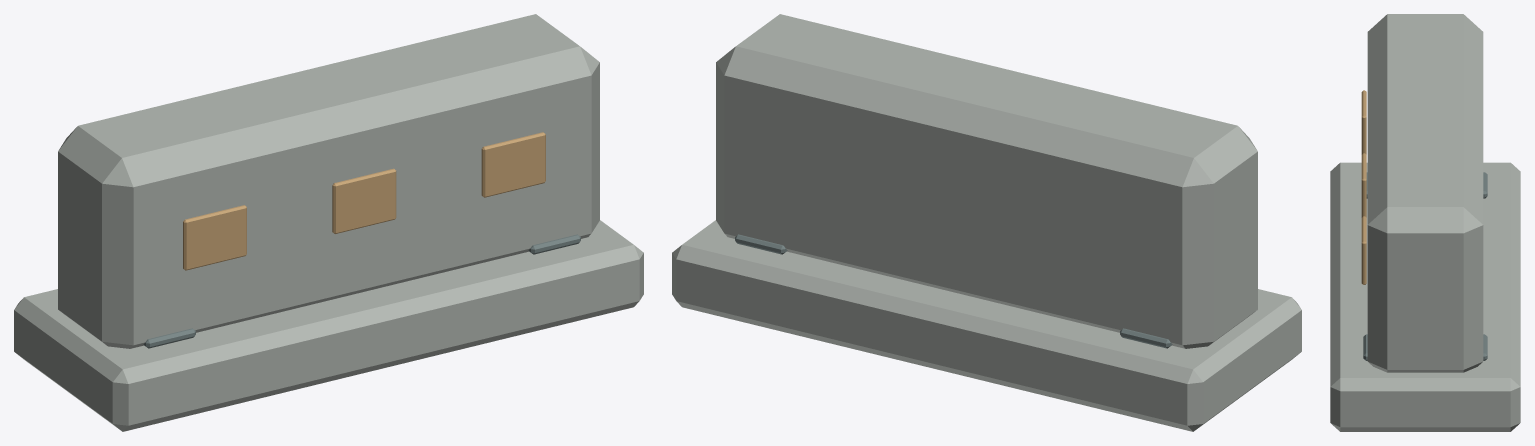
The model's file is barricade.glb.
3 views of the same model, side by side, from view 1: azimuth 30°, elevation 25°; view 2: azimuth 150°, elevation 25°; view 3: azimuth 270°, elevation 25° (orthographic). The views are drawn at different scales.
Parts seen in each view (by area): view 1: Barrier, Foot, Warning.002, Warning.001, Warning; view 2: Barrier, Foot; view 3: Barrier, Foot, Warning.002, Warning.001, Warning, Detail anchor plate.001.
Boxes of the visible parts, box(x1,y1,x2,y2) form: Barrier: box(58, 14, 599, 348); Foot: box(14, 220, 643, 431); Warning.002: box(481, 132, 545, 197); Warning.001: box(332, 168, 396, 233); Warning: box(183, 205, 246, 270); Barrier: box(716, 14, 1257, 348); Foot: box(672, 220, 1301, 431); Barrier: box(1367, 14, 1483, 372); Foot: box(1330, 162, 1520, 431); Warning.002: box(1361, 216, 1366, 284); Warning.001: box(1361, 153, 1366, 217); Warning: box(1361, 90, 1366, 154); Detail anchor plate.001: box(1363, 334, 1487, 360).
Bounding box in the file's own units: 3.2 × 1.43 × 1.15.
